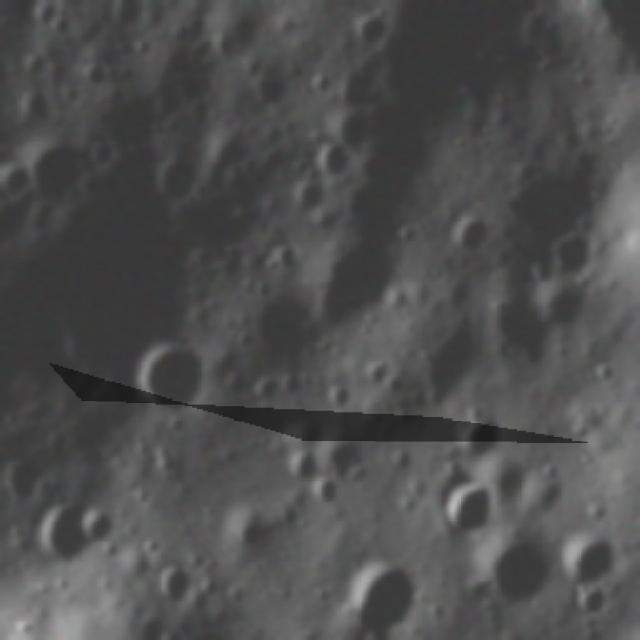crater: (313, 228, 407, 332), (34, 492, 124, 565), (132, 334, 214, 414), (346, 562, 420, 635), (483, 537, 549, 606), (242, 292, 308, 358), (25, 135, 89, 203), (556, 527, 622, 587), (438, 477, 498, 538), (449, 409, 511, 463), (552, 221, 602, 274), (154, 154, 203, 203), (446, 212, 497, 254), (306, 141, 357, 179), (154, 560, 194, 606), (352, 7, 396, 48), (249, 70, 297, 107), (82, 501, 118, 547), (574, 583, 611, 622), (284, 447, 322, 484), (13, 88, 53, 123), (290, 175, 327, 212), (83, 133, 120, 170), (3, 156, 34, 198), (310, 473, 347, 507), (235, 515, 270, 550), (358, 356, 392, 389), (590, 358, 624, 390), (81, 58, 110, 94), (251, 373, 284, 404), (382, 367, 409, 399), (24, 47, 50, 78), (392, 220, 423, 246), (309, 69, 337, 96), (326, 386, 352, 412), (280, 369, 303, 396), (132, 34, 156, 57), (261, 252, 282, 276), (410, 384, 428, 410)
